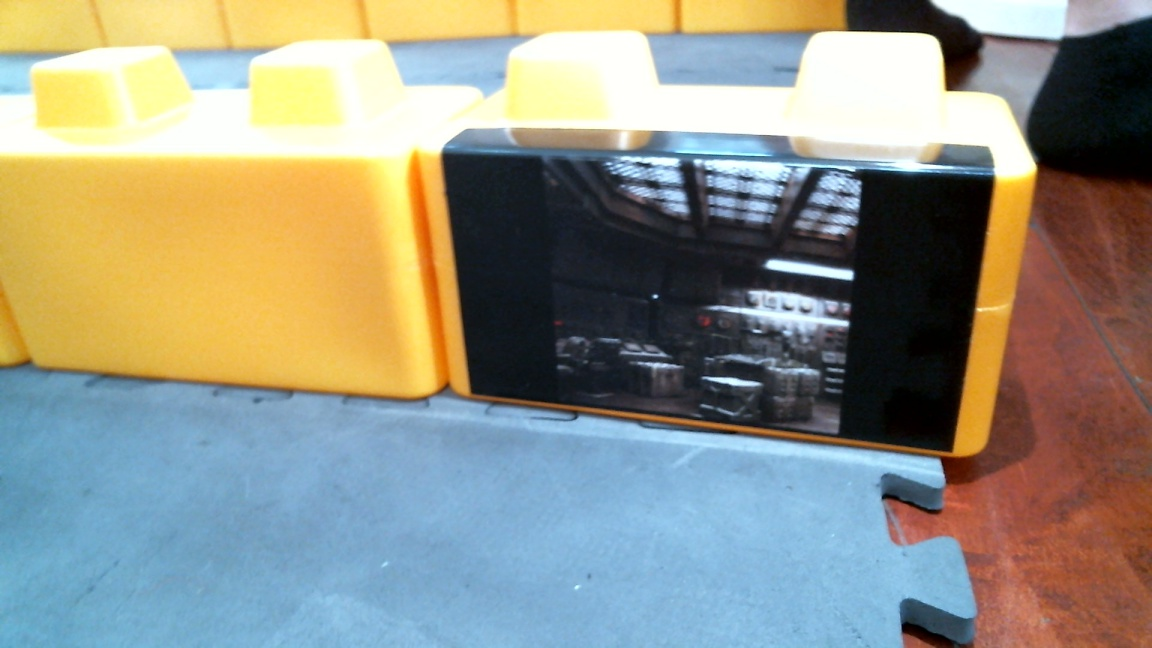skystone: (412, 28, 993, 462)
stone: (1, 34, 444, 405)
